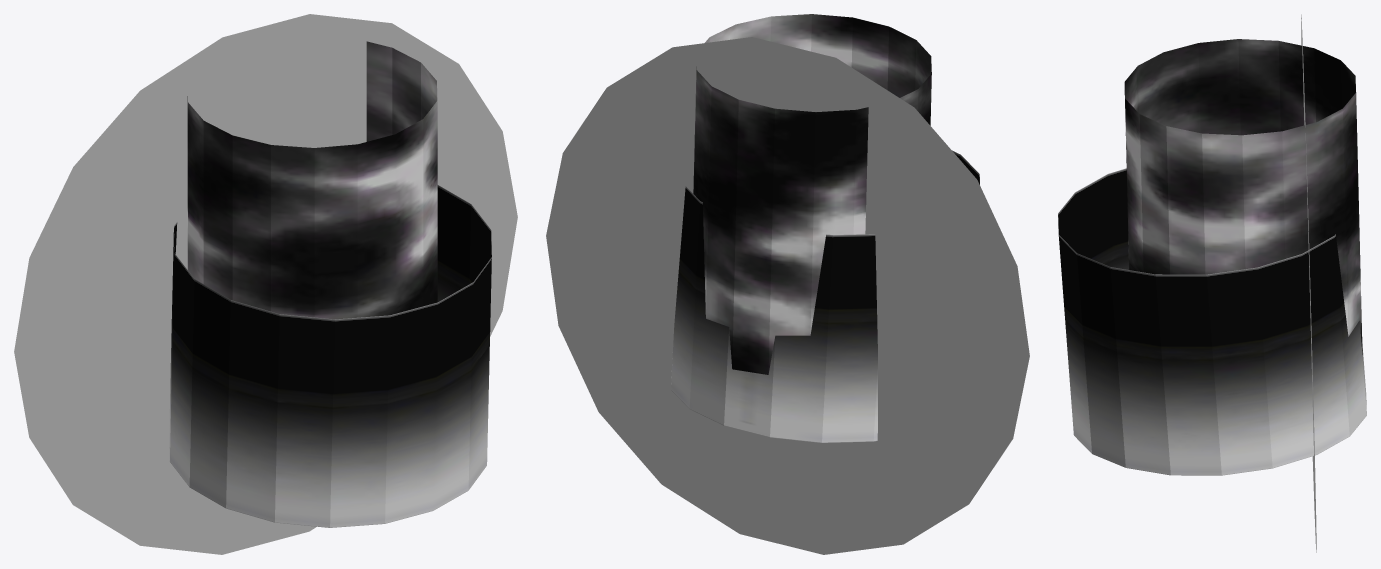
The model's file is effect_xinglingjuexing_donghua #2538015.fbx.
3 views of the same model, side by side, from view 1: azimuth 30°, elevation 25°; view 2: azimuth 150°, elevation 25°; view 3: azimuth 270°, elevation 25° (orthographic). The views are drawn at different scales.
Parts seen in each view (by area): view 1: effect_aolabeibei_baoqi_01, effect_yuan_103_mo (1), effect_yuan_103_mo (2); view 2: effect_aolabeibei_baoqi_01, effect_yuan_103_mo (2), effect_yuan_103_mo (1); view 3: effect_yuan_103_mo (1), effect_yuan_103_mo (2), effect_aolabeibei_baoqi_01.
Boxes of the visible parts, x1=… form: effect_aolabeibei_baoqi_01: x1=14, y1=14, x2=517, y2=554; effect_yuan_103_mo (1): x1=169, y1=185, x2=491, y2=527; effect_yuan_103_mo (2): x1=187, y1=41, x2=437, y2=319; effect_aolabeibei_baoqi_01: x1=546, y1=37, x2=1029, y2=554; effect_yuan_103_mo (2): x1=693, y1=14, x2=931, y2=374; effect_yuan_103_mo (1): x1=671, y1=150, x2=979, y2=442; effect_yuan_103_mo (1): x1=1058, y1=168, x2=1366, y2=475; effect_yuan_103_mo (2): x1=1124, y1=39, x2=1362, y2=354; effect_aolabeibei_baoqi_01: x1=1301, y1=14, x2=1316, y2=552.
Bounding box in the file's own units: 3.5 × 3.46 × 1.99.
